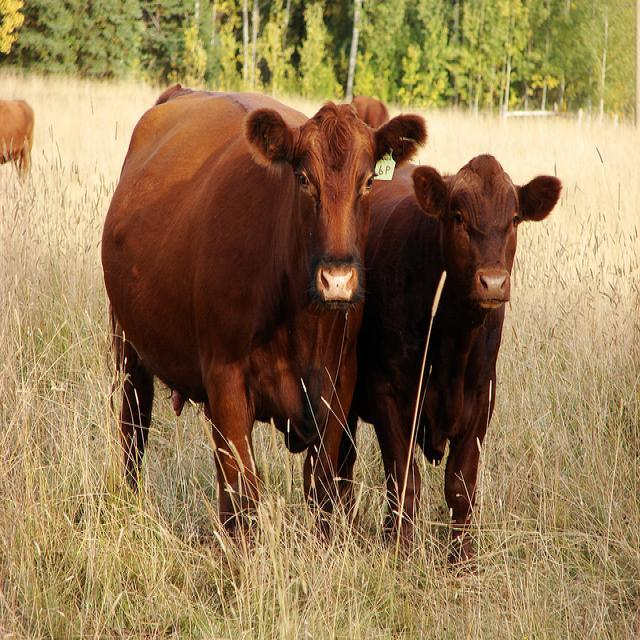cow: (99, 73, 428, 540), (334, 154, 562, 574), (0, 95, 31, 176)
